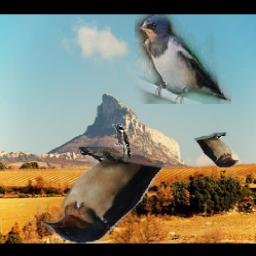Swallow: (42, 147, 164, 243), (135, 14, 231, 104), (195, 133, 240, 168)
Woodpecker: (112, 124, 131, 159)
